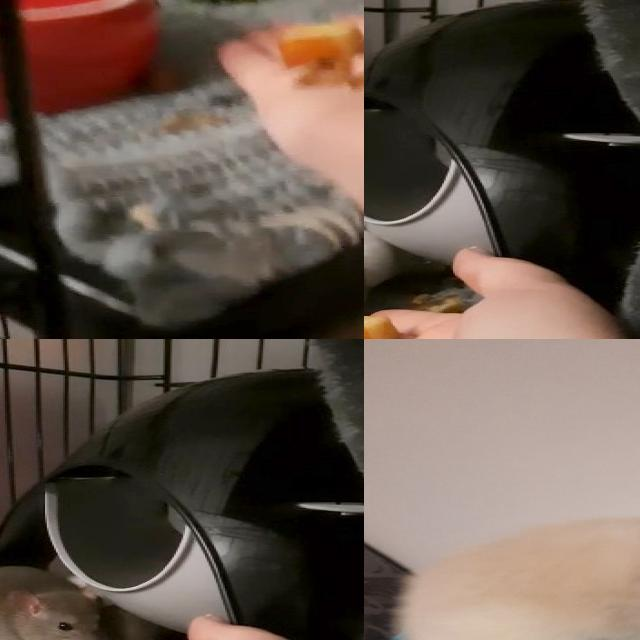rat: (394, 483, 640, 640), (0, 564, 114, 640), (364, 227, 409, 331)
